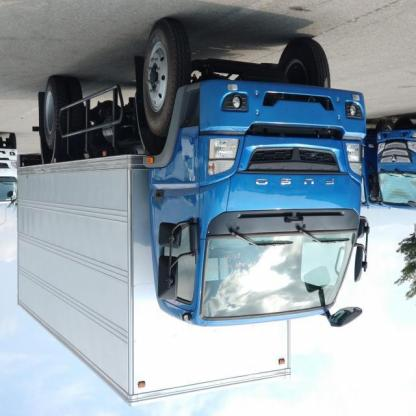truck: (16, 17, 364, 407)
